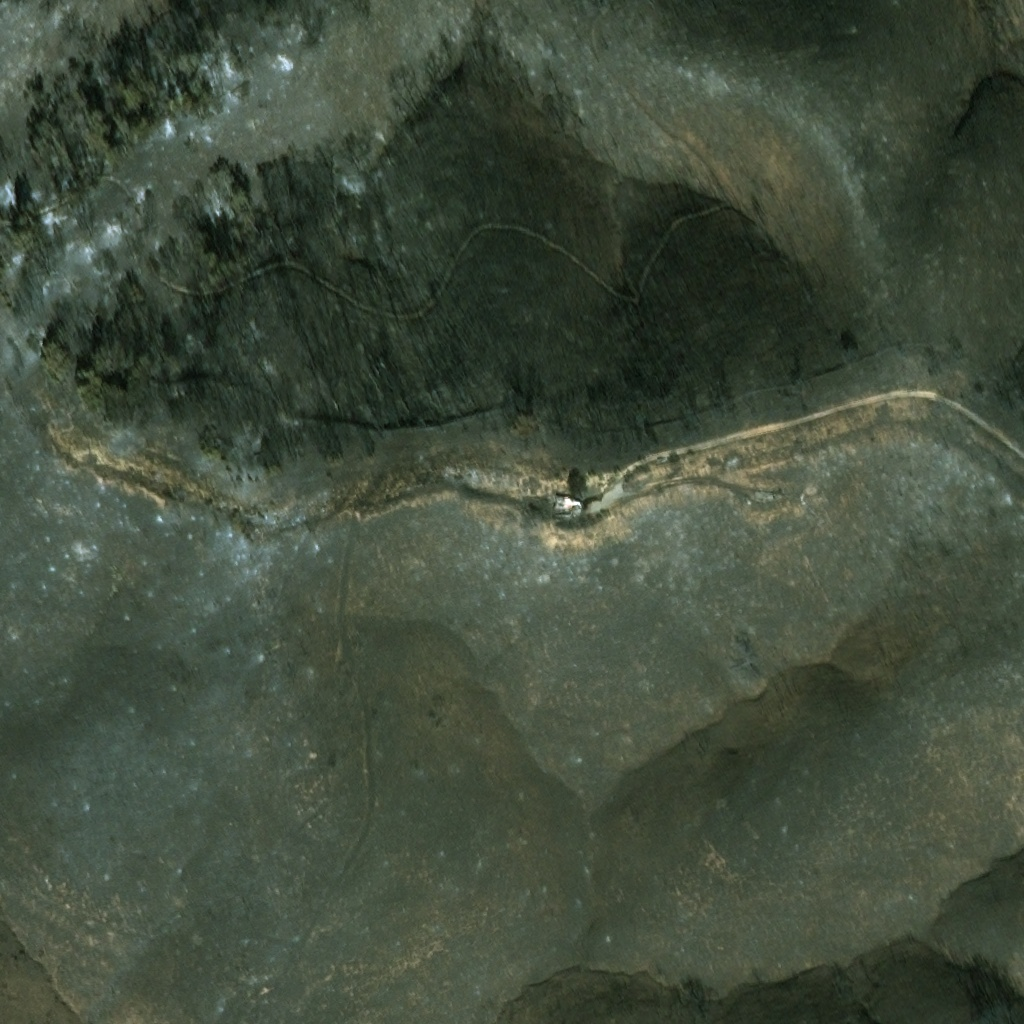3 destroyed: (553, 497, 572, 520), (761, 492, 779, 501)
